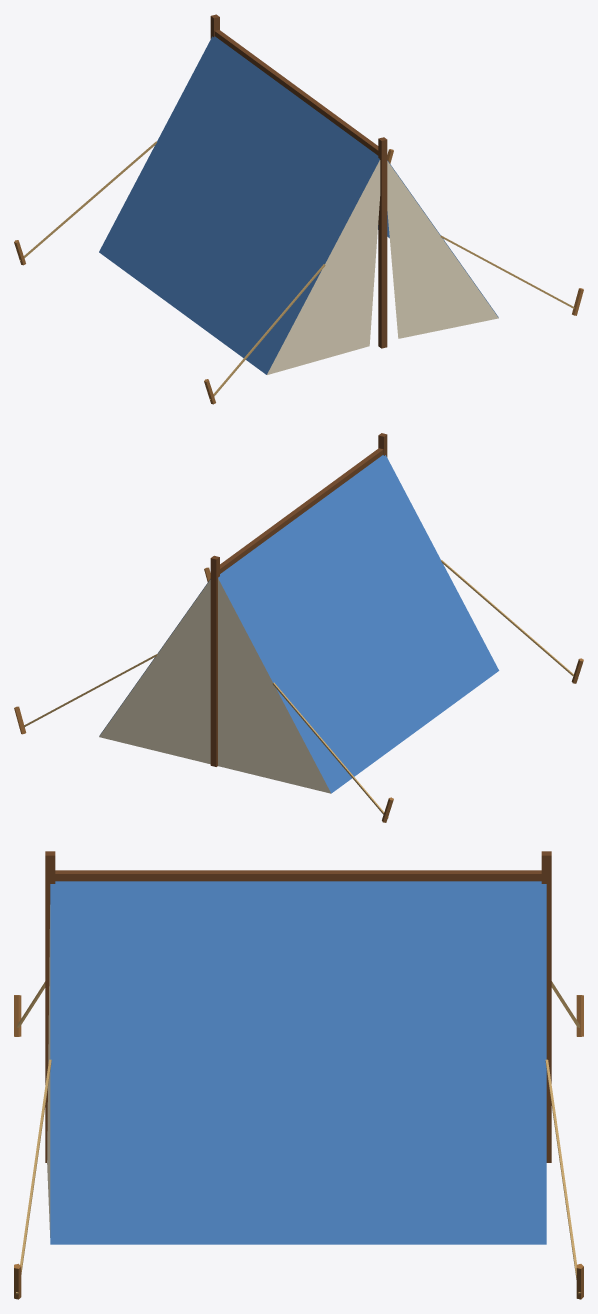
File: vil_tent_v01.glb
The picture shows the model from 3 angles, top to bottom: view 1: azimuth 30°, elevation 25°; view 2: azimuth 150°, elevation 25°; view 3: azimuth 270°, elevation 25°; orthographic projection. The views are drawn at different scales.
Visible parts, largest first — view 1: tent; view 2: tent; view 3: tent.
Part boxes in pixels (x1=…): tent: x1=14, y1=14, x2=583, y2=404; tent: x1=14, y1=433, x2=583, y2=822; tent: x1=14, y1=851, x2=583, y2=1299.
Size of the model in its own units: 3.92 by 2.1 by 3.45.
